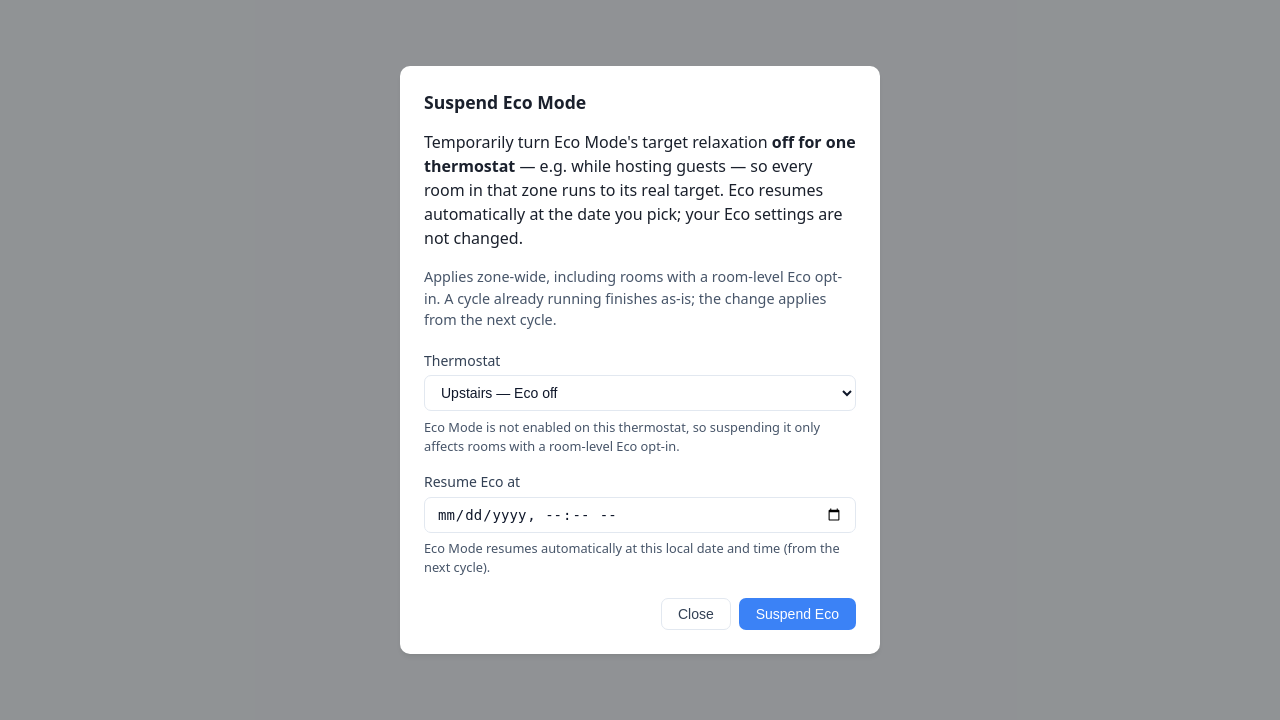
Scenario: EcoSuspendModal — fallbacks and non-Error failures › falls back to generic copy when suspending rejects with a non-Error
Type "2099-06-01T18:00" into the field labelled "Resume Eco at" at (640, 515), box [424,497,856,533]
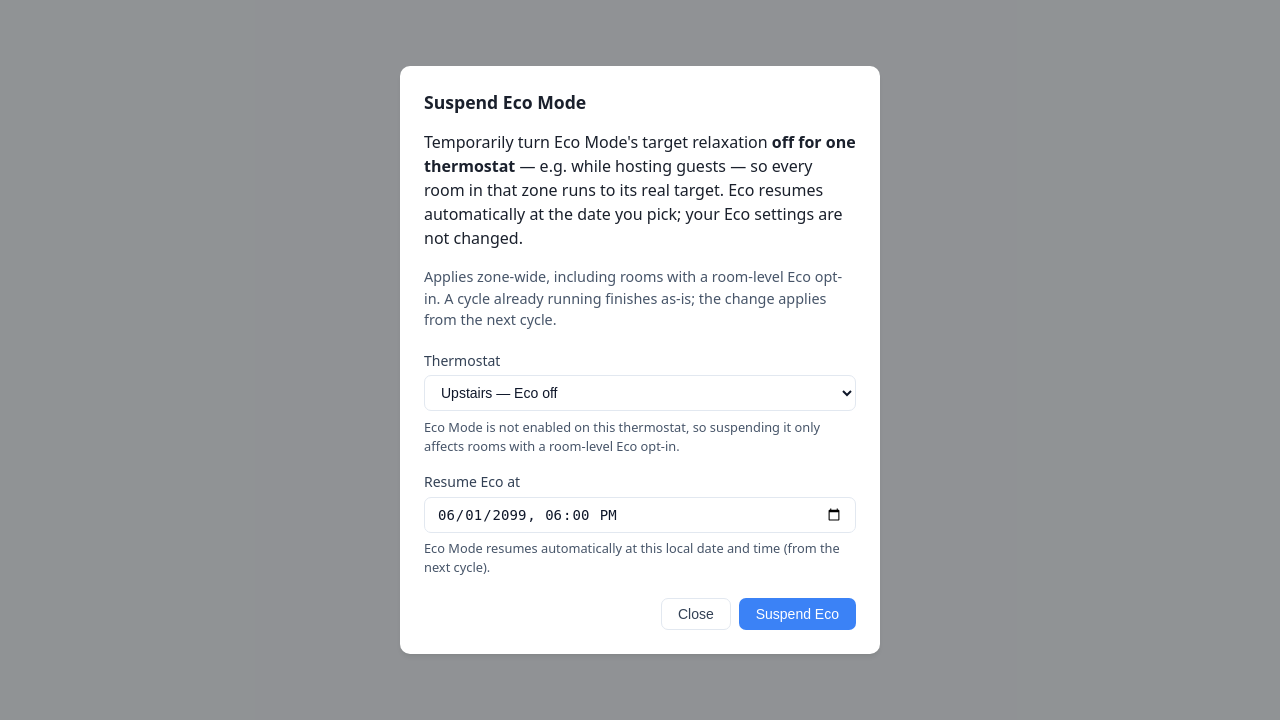
Click the button "Suspend Eco" at (797, 614), box [739,598,856,630]
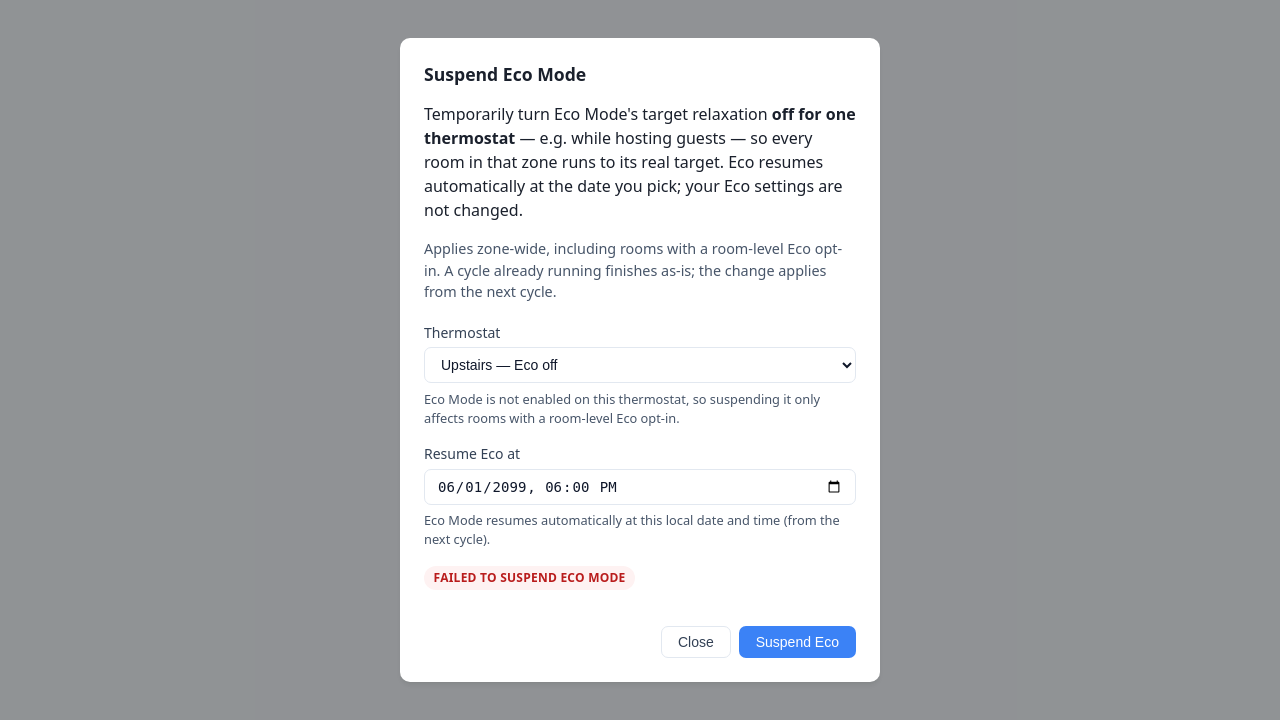
Expected: the text "Failed to suspend Eco Mode" is shown, [424,566,635,590]
